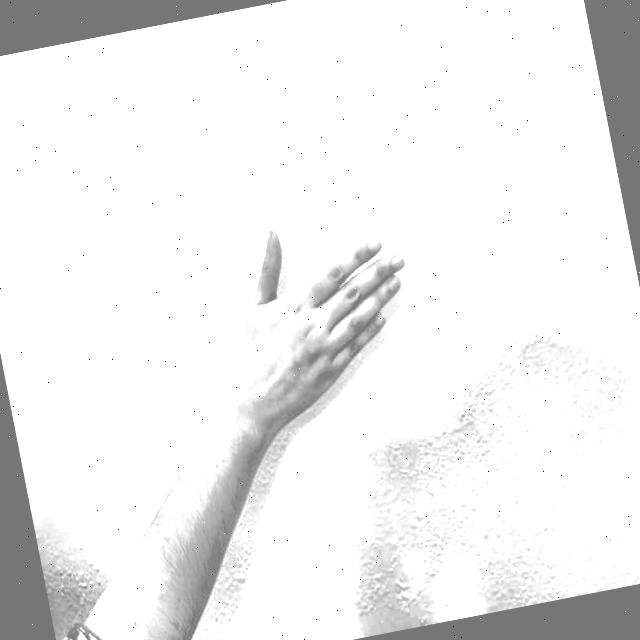Aa: (167, 139, 456, 471)
